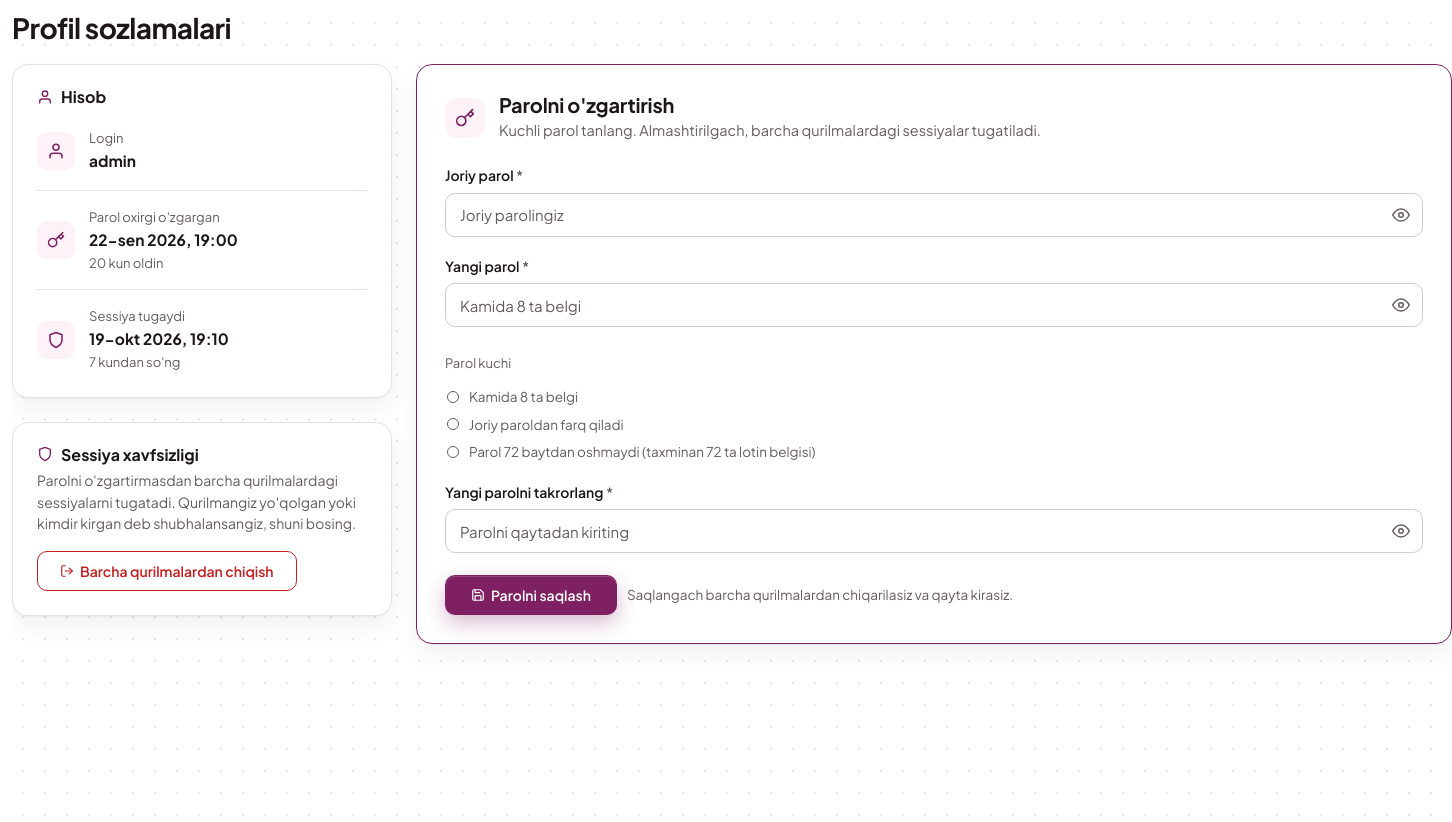
it: ProfileAdmin: validatsiya (alert emas — maydon ostida) › bo'sh forma: har maydonga o'z xabari, so'rov ketmaydi, fokus birinchi xatoli maydonda
Click the button "Parolni saqlash".
click(531, 595)  # box [445,575,617,615]
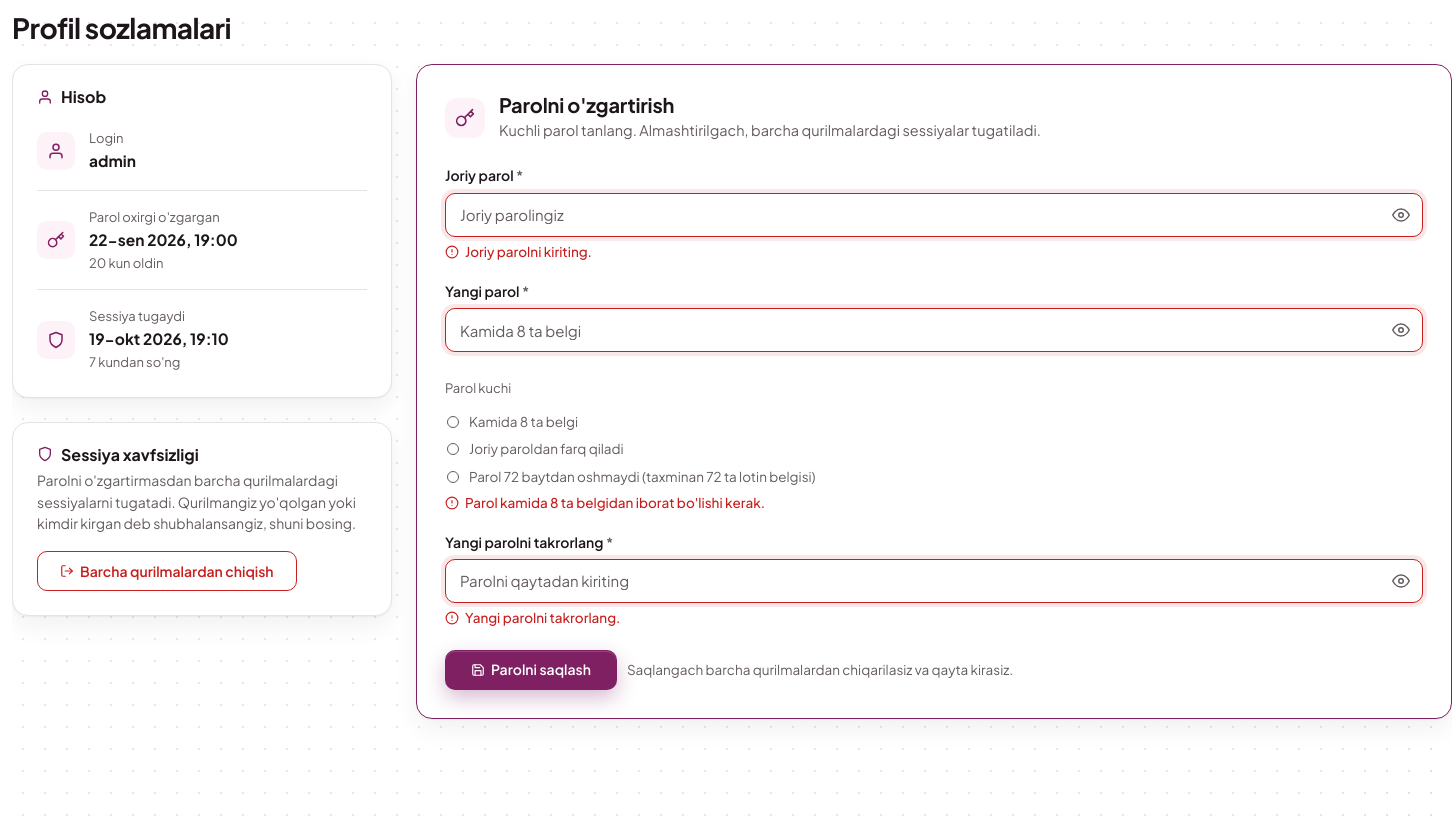
Check: the text "Joriy parolni kiriting." is shown, box [465,243,592,262]
Check: the text "Parol kamida 8 ta belgidan iborat bo'lishi kerak." is shown, box [465,494,765,512]
Check: the text "Yangi parolni takrorlang." is shown, box [465,609,620,628]
